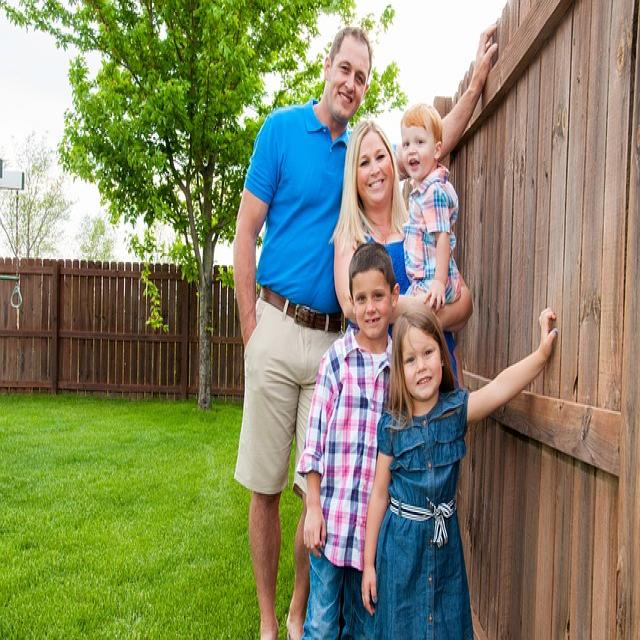adult: (230, 21, 500, 640), (332, 118, 476, 392)
child: (360, 305, 559, 640), (298, 243, 402, 640), (399, 102, 461, 317)
